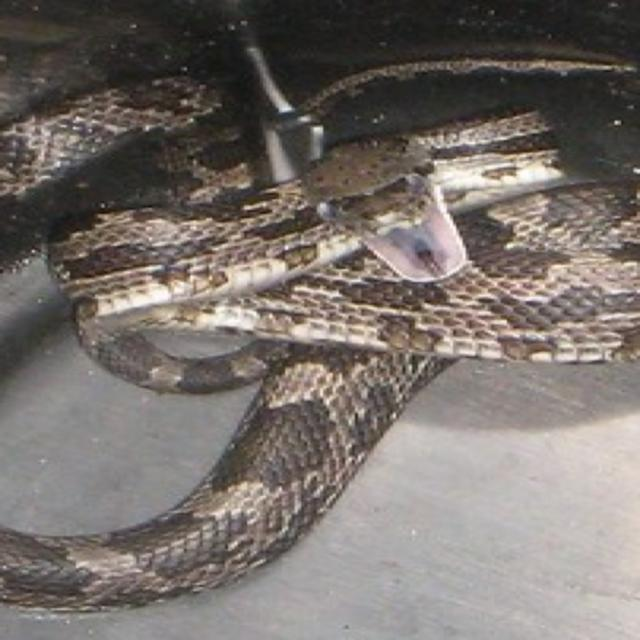snake: (0, 58, 640, 612)
